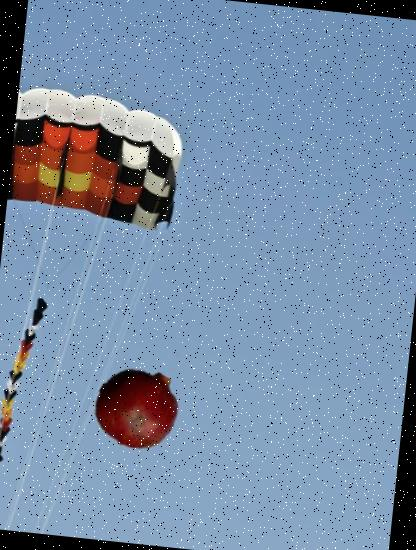Pomegranate: (92, 363, 182, 452)
